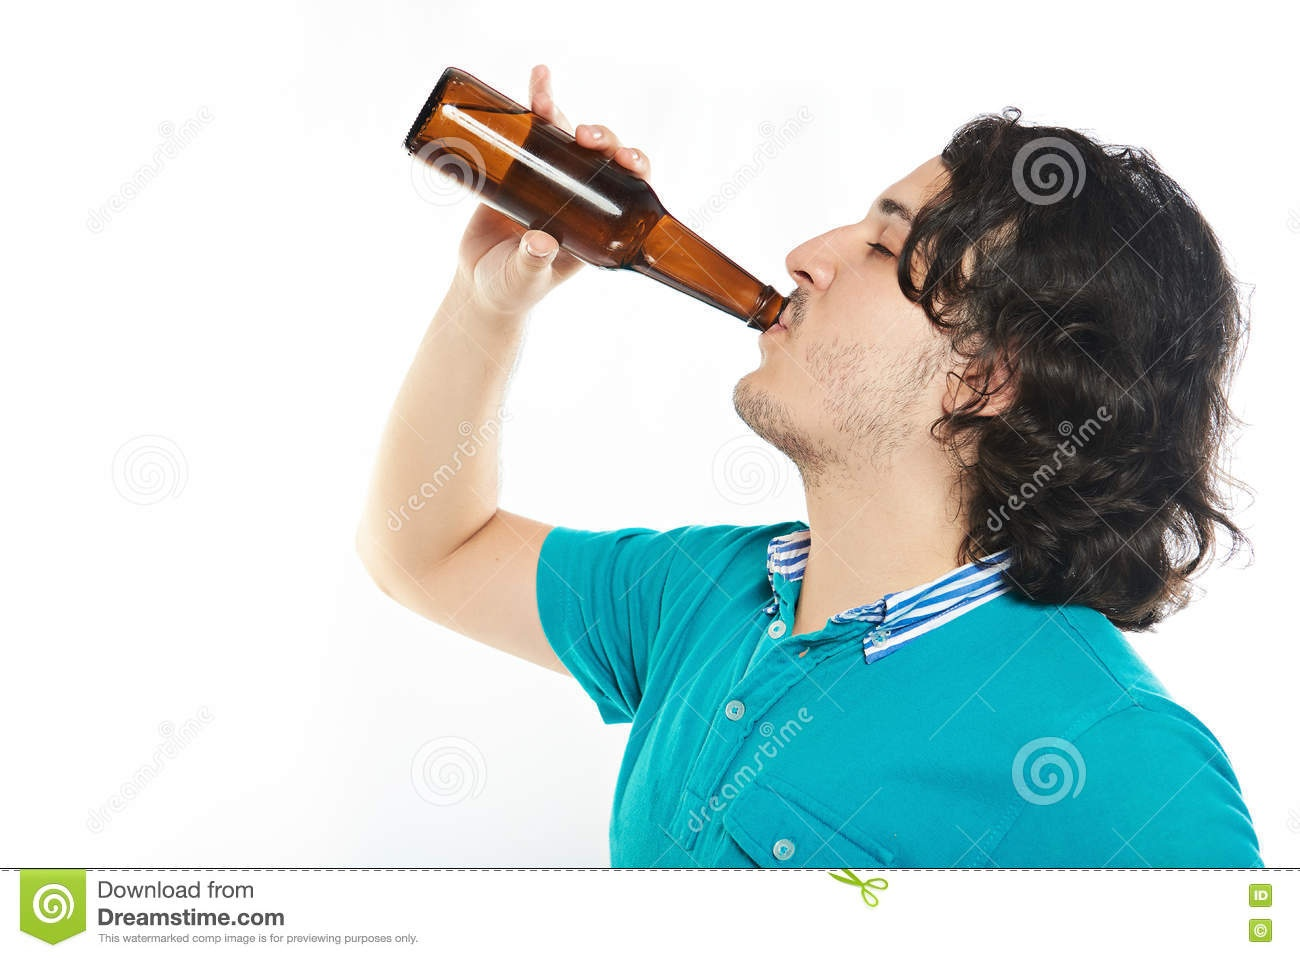beerBottle: (400, 73, 781, 324)
